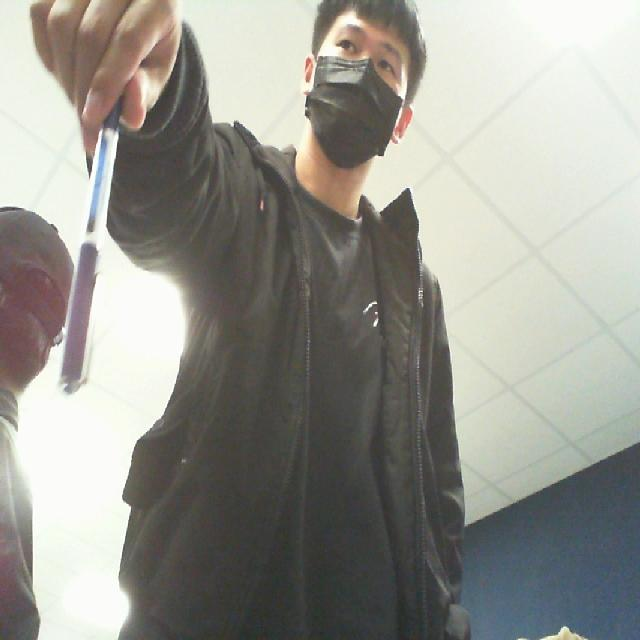Pen: (45, 80, 139, 400)
